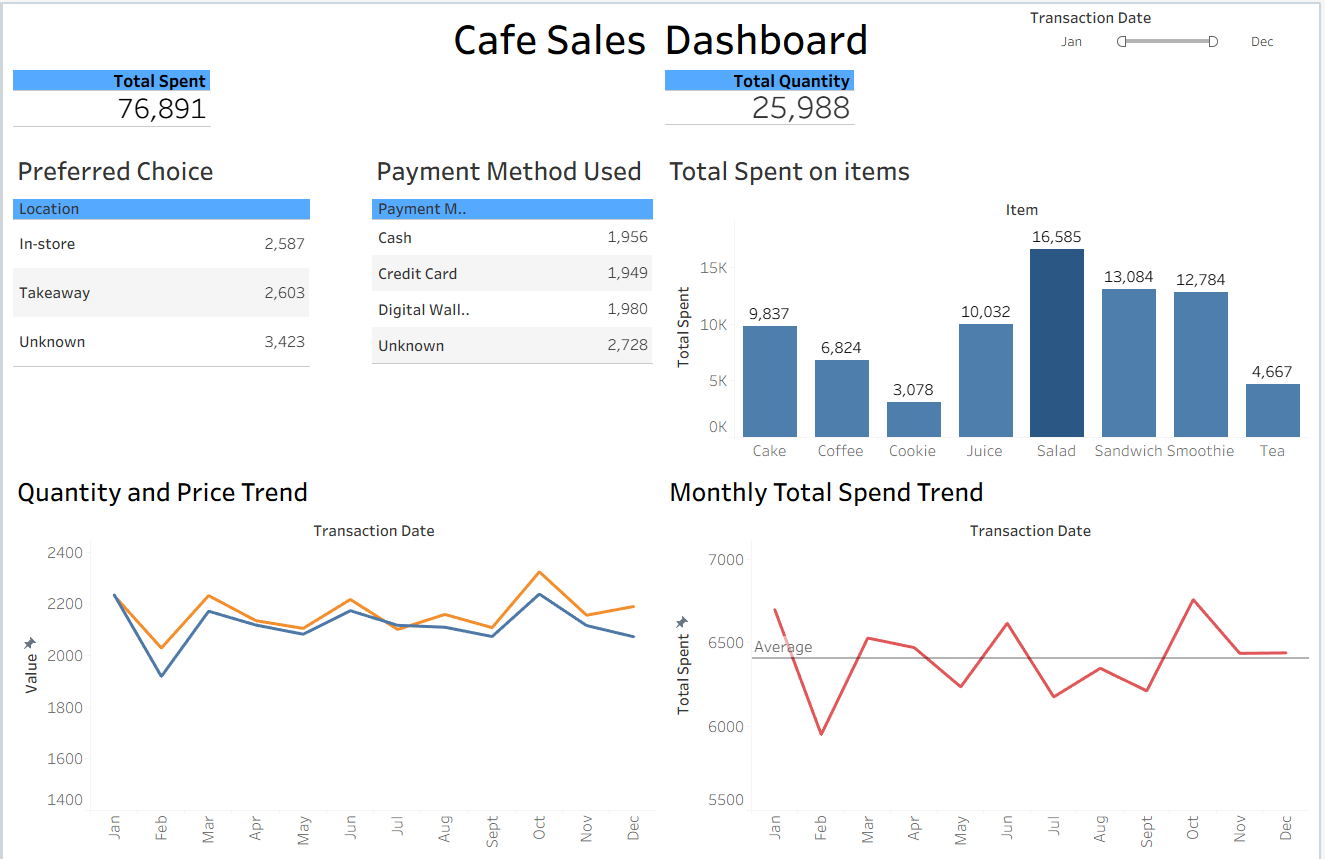

This screenshot's page, from the dashboard's own definition file:
{"tool":"tableau","page":{"name":"Dashboard 1","canvas":[1000,1000],"units":"permille","ordinal":0},"visuals":[{"type":"filter","title":"Sheet 1","param":"[federated.0mscooa0o2ud7o1c92ewj1fe62q5].[none:transaction_date:qk]","box":[779.6,5.8,208.3,66.3]},{"type":"text","box":[6.1,9.3,987.9,65.1]},{"type":"worksheet","title":"Sheet 5","mark":"Automatic","cols":["Calculation_0662501142192129"],"box":[6.1,74.4,493.9,91.9]},{"type":"worksheet","title":"Sheet 6","mark":"Automatic","cols":["Calculation_0662501142974467"],"box":[500,74.4,493.9,91.9]},{"type":"worksheet","title":"Sheet 3","mark":"Automatic","rows":["location"],"box":[6.1,166.3,272,373.2]},{"type":"worksheet","title":"Sheet 2","mark":"Automatic","rows":["payment_method"],"box":[278,166.3,222,373.2]},{"type":"worksheet","title":"Sheet 4","mark":"Automatic","rows":["total_spent"],"cols":["item"],"box":[500,166.3,493.9,373.2]},{"type":"worksheet","title":"Sheet 1","mark":"Automatic","cols":["transaction_date"],"box":[6.1,539.5,493.9,451.2]},{"type":"worksheet","title":"Sheet 1 (2)","mark":"Automatic","rows":["total_spent"],"cols":["transaction_date"],"box":[500,539.5,493.9,451.2]}]}

Visuals, with their boxes on the dashboard's canvas, which has no fixed pixel size, in thousandths of its width and height (x1, y1, x2, y2). These are canvas units, not pixel positions in the 1325x859 screenshot, which may show the page scaled, cropped or inside an application window:
"Sheet 1" filter: bbox=(780, 6, 988, 72)
text: bbox=(6, 9, 994, 74)
"Sheet 5" worksheet: bbox=(6, 74, 500, 166)
"Sheet 6" worksheet: bbox=(500, 74, 994, 166)
"Sheet 3" worksheet: bbox=(6, 166, 278, 540)
"Sheet 2" worksheet: bbox=(278, 166, 500, 540)
"Sheet 4" worksheet: bbox=(500, 166, 994, 540)
"Sheet 1" worksheet: bbox=(6, 540, 500, 991)
"Sheet 1 (2)" worksheet: bbox=(500, 540, 994, 991)
